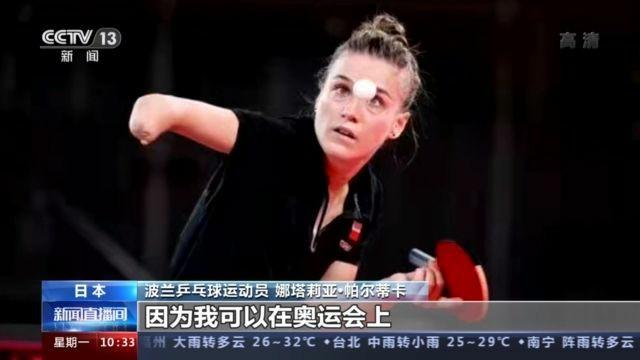ball: (347, 75, 378, 103)
